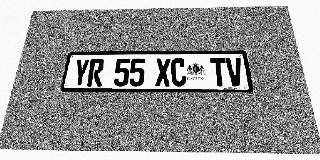5: (114, 59, 130, 86), (129, 59, 145, 86)
C: (171, 58, 187, 86)
R: (87, 59, 105, 86)
T: (210, 58, 228, 86)
V: (225, 58, 244, 86)
X: (155, 58, 171, 86)
Y: (72, 59, 90, 86)
